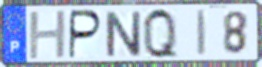8: (221, 10, 250, 57)
H: (28, 9, 68, 62)
I: (195, 8, 209, 58)
N: (103, 10, 143, 59)
P: (67, 9, 104, 61)
Q: (141, 6, 180, 61)
